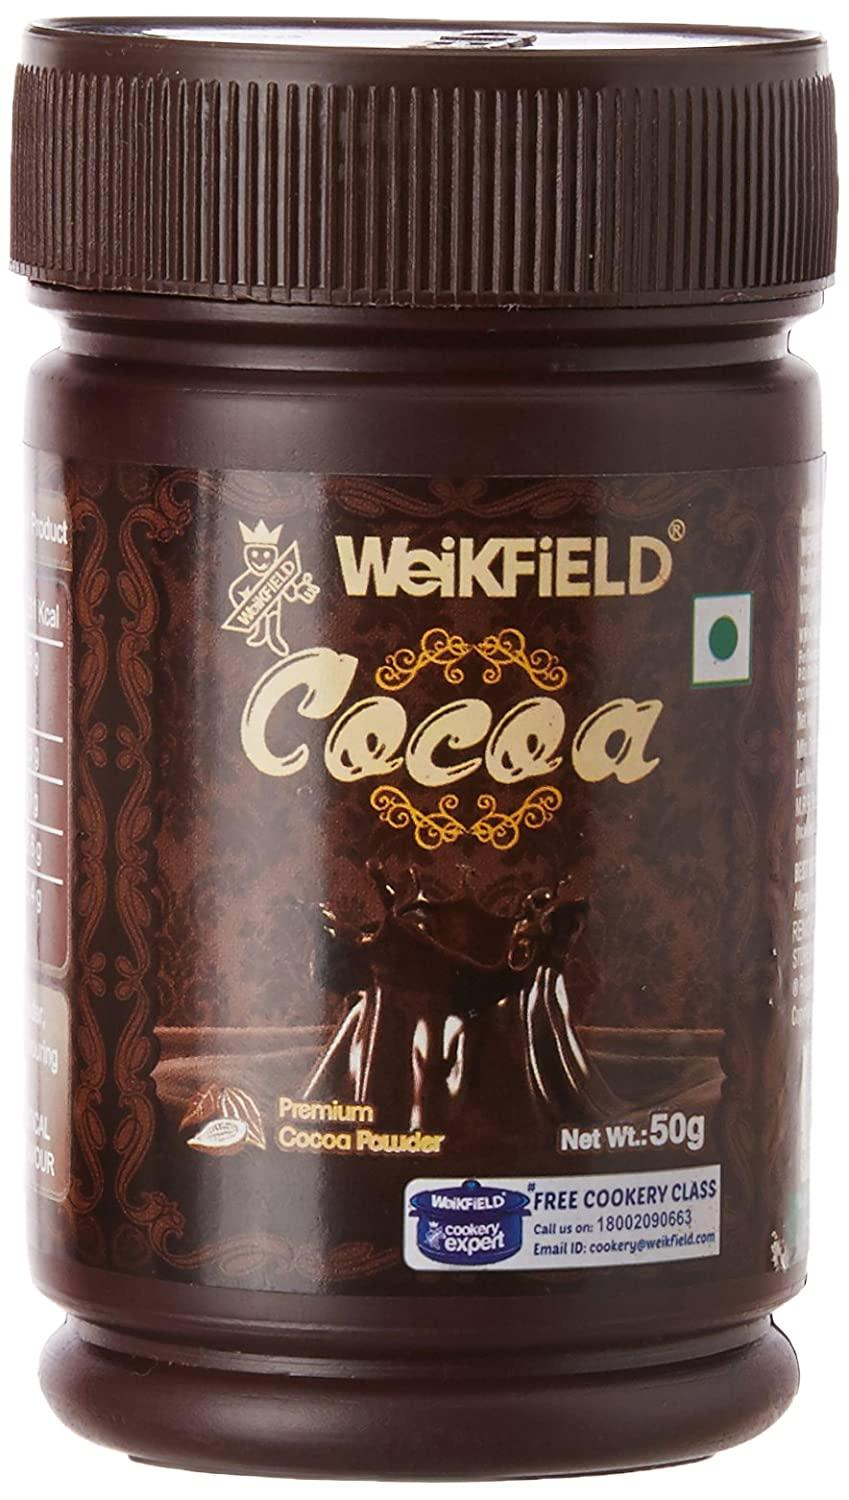Cocoa Powder: (16, 6, 830, 1484)
